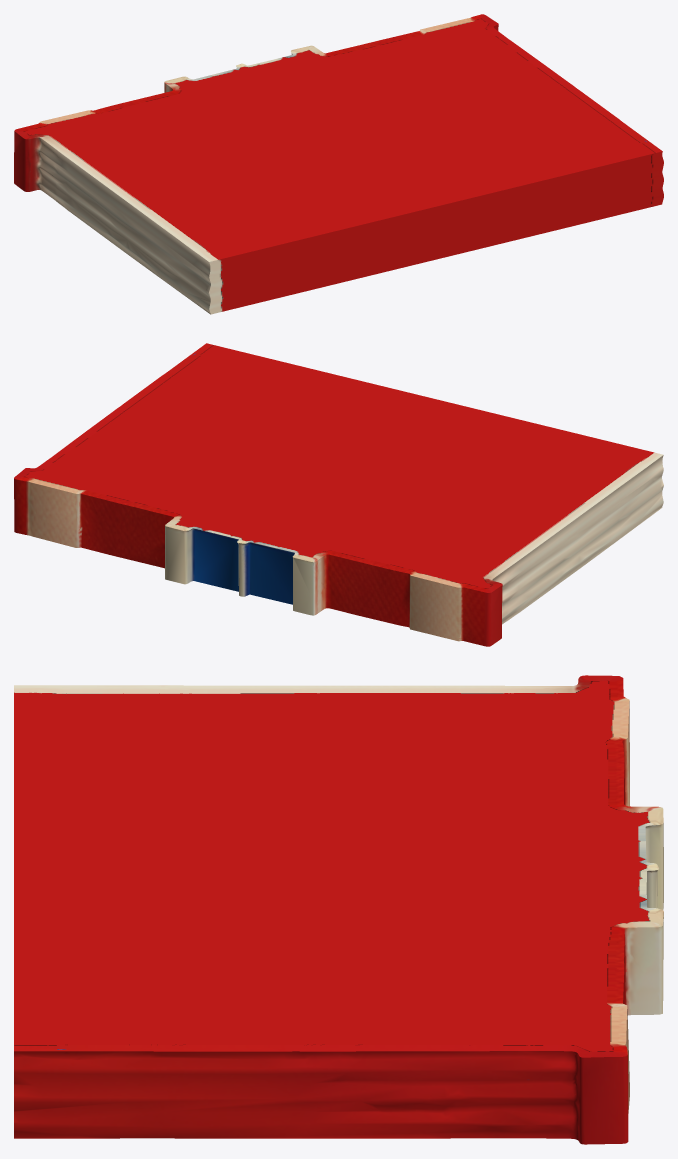
File: 11-roof-back-left.fbx
The picture shows the model from 3 angles, top to bottom: view 1: azimuth 30°, elevation 25°; view 2: azimuth 150°, elevation 25°; view 3: azimuth 270°, elevation 25°; orthographic projection. The views are drawn at different scales.
Parts seen in each view (by area): view 1: roof-back-left; view 2: roof-back-left; view 3: roof-back-left.
Part boxes in pixels (box(x1,y1,x2,y2)): roof-back-left: box(14, 14, 663, 314); roof-back-left: box(14, 343, 663, 646); roof-back-left: box(14, 675, 663, 1144).
Bounding box in the file's own units: 3672 × 392 × 2639.
Materials: 1 (1 with a texture image).
